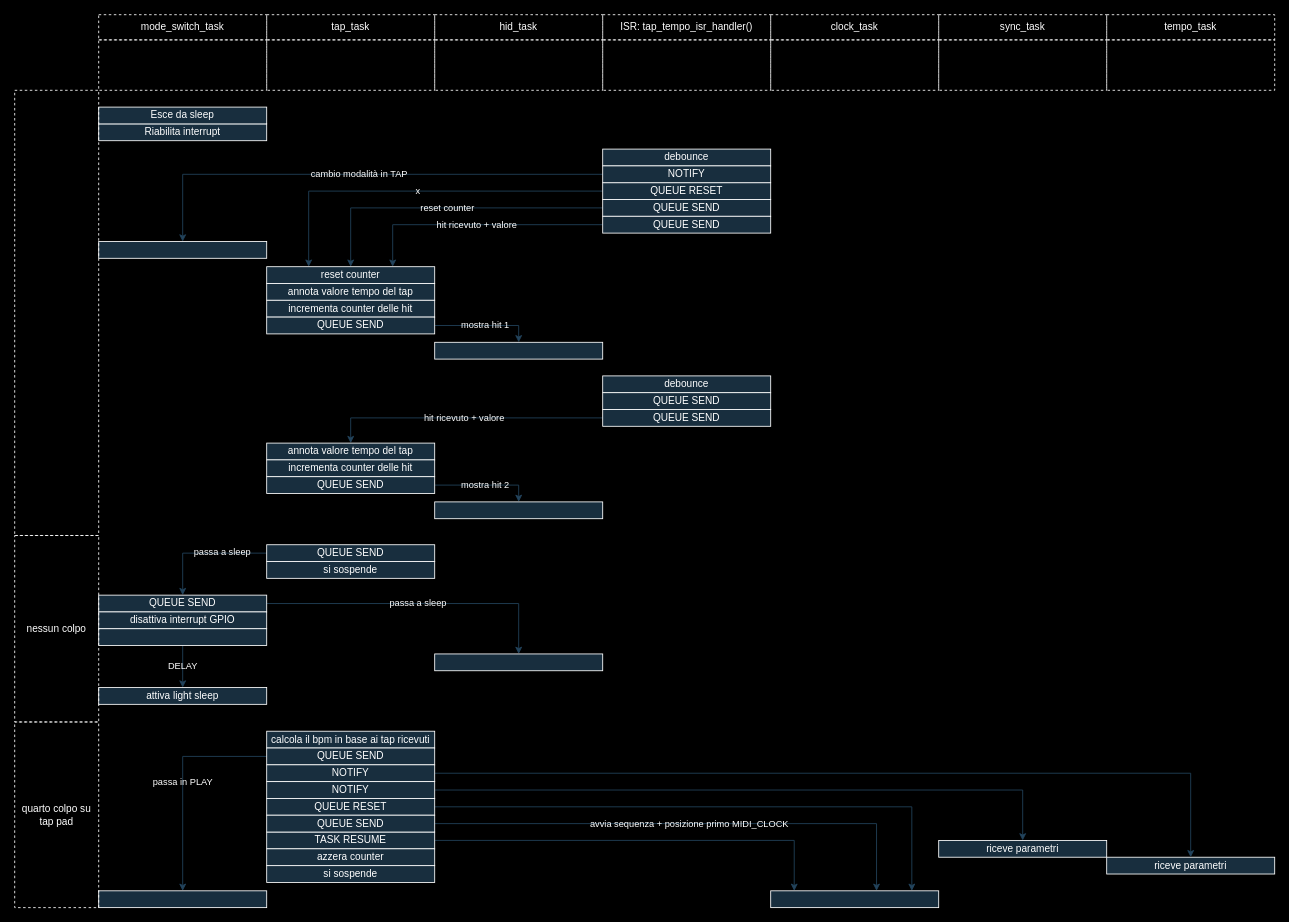
Some shapes in this 1289 by 922 pixel diagram are drawn without their labels. The shapes that lost their labels are listed below. From the top down, each one's box as (x1, y1, x2, y2) in pixels, then its label:
(98, 241, 267, 258): cambia modalità in TAP
(14, 89, 99, 536): colpo su tap pad
(434, 341, 603, 359): mostra numero di hit (1)
(434, 501, 603, 519): mostra numero di hit (2)
(98, 628, 267, 646): attiva wakeup pin GPIO
(434, 653, 603, 671): spegne display
(98, 890, 267, 908): cambia mode in play
(770, 890, 939, 908): avvia sequenza
